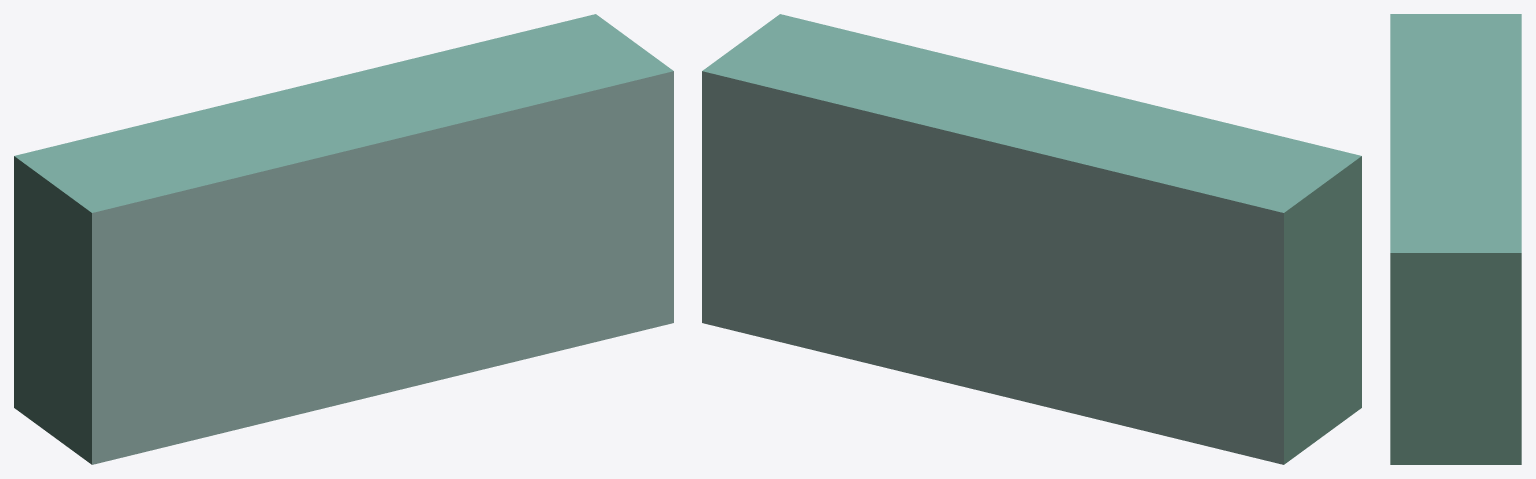
The model's file is SM_ArcheLiaison.fbx.
3 renders of one model, left to right at view 1: azimuth 30°, elevation 25°; view 2: azimuth 150°, elevation 25°; view 3: azimuth 270°, elevation 25°, orthographic. The views are drawn at different scales.
Visible parts, largest first — view 1: SM_ArcheLiaison; view 2: SM_ArcheLiaison; view 3: SM_ArcheLiaison.
Part boxes in pixels (x1,y1,x2,y2): SM_ArcheLiaison: (14, 14, 673, 464); SM_ArcheLiaison: (702, 14, 1361, 464); SM_ArcheLiaison: (1390, 14, 1521, 464).
Size of the model in its own units: 108 by 44.53 by 25.
